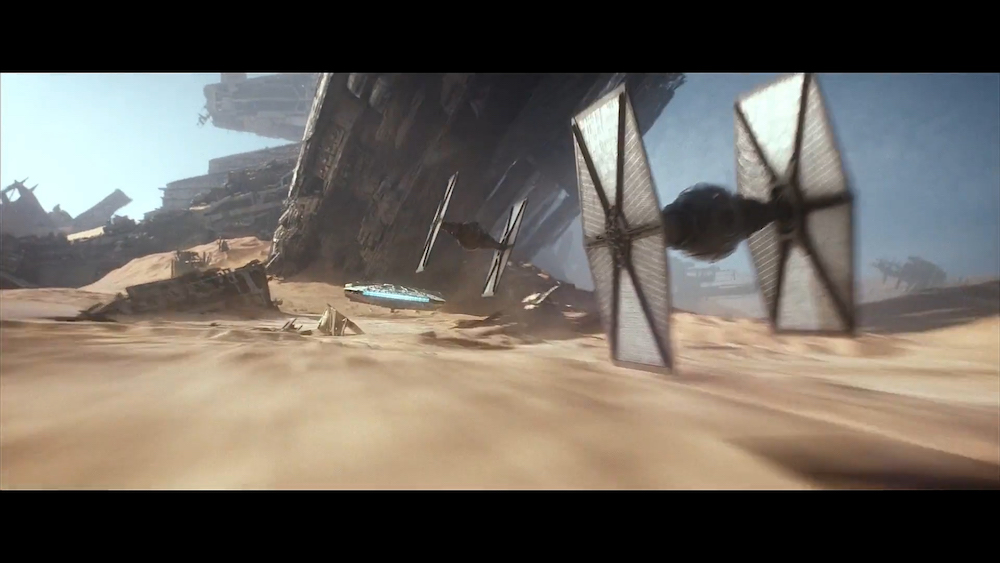Millennium Falcon: (345, 281, 446, 312)
Tie Fighter: (569, 76, 858, 380), (417, 172, 532, 298)
